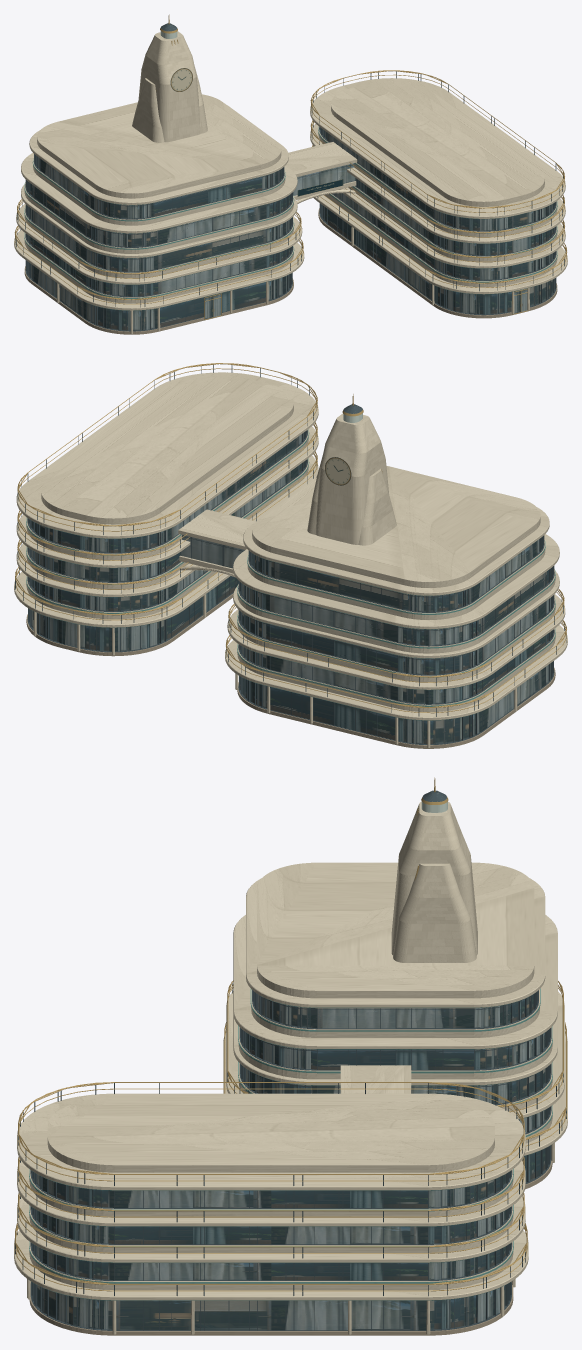
The model's file is CourtCrescent.fbx.
3 views of the same model, one above another, from view 1: azimuth 30°, elevation 25°; view 2: azimuth 150°, elevation 25°; view 3: azimuth 270°, elevation 25° (orthographic). The views are drawn at different scales.
Parts seen in each view (by area): view 1: CourtCrescent Close, CourtCrescent Horizon, CourtCrescent Street; view 2: CourtCrescent Close, CourtCrescent Horizon, CourtCrescent Street; view 3: CourtCrescent Close, CourtCrescent Horizon, CourtCrescent Street.
Part boxes in pixels (bbox=[...]): CourtCrescent Close: bbox=[14, 14, 567, 334]; CourtCrescent Horizon: bbox=[15, 23, 566, 331]; CourtCrescent Street: bbox=[14, 26, 567, 334]; CourtCrescent Close: bbox=[14, 363, 567, 748]; CourtCrescent Horizon: bbox=[15, 363, 566, 744]; CourtCrescent Street: bbox=[14, 363, 567, 748]; CourtCrescent Close: bbox=[14, 777, 567, 1335]; CourtCrescent Horizon: bbox=[14, 791, 566, 1334]; CourtCrescent Street: bbox=[14, 790, 567, 1334].
Bounding box in the file's own units: 5336 × 3078 × 4236.
